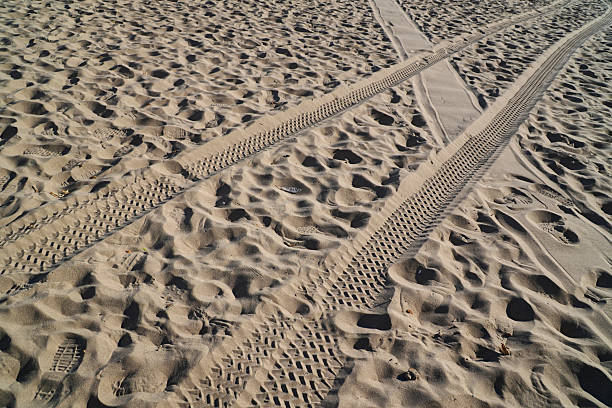vehicle_track: (185, 9, 611, 406), (0, 1, 567, 274)
